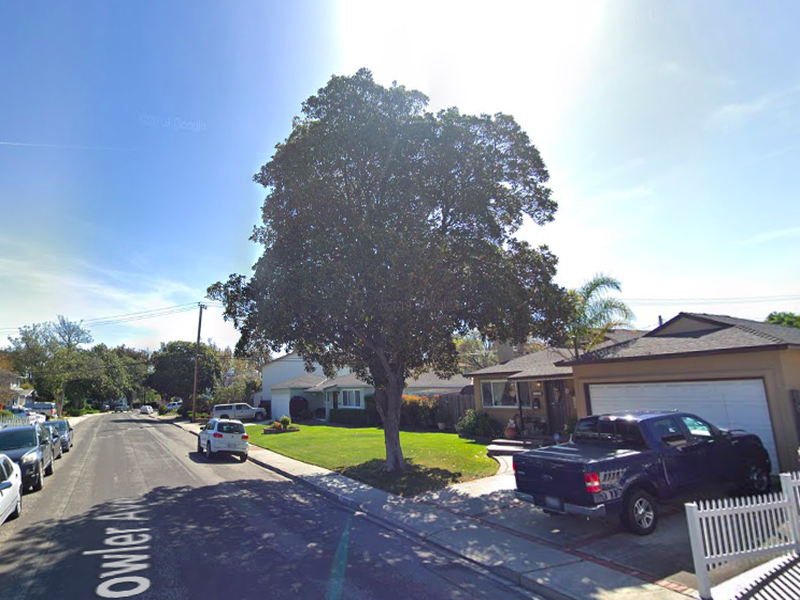tree: (205, 67, 576, 480)
